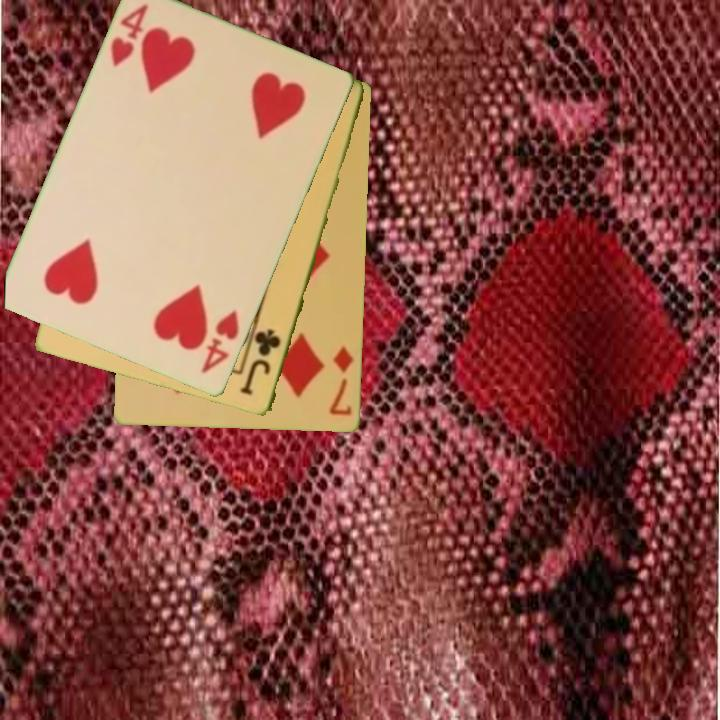4h: (198, 307, 242, 378), (107, 1, 152, 70)
7d: (326, 344, 357, 419)
Jc: (238, 325, 284, 399)
